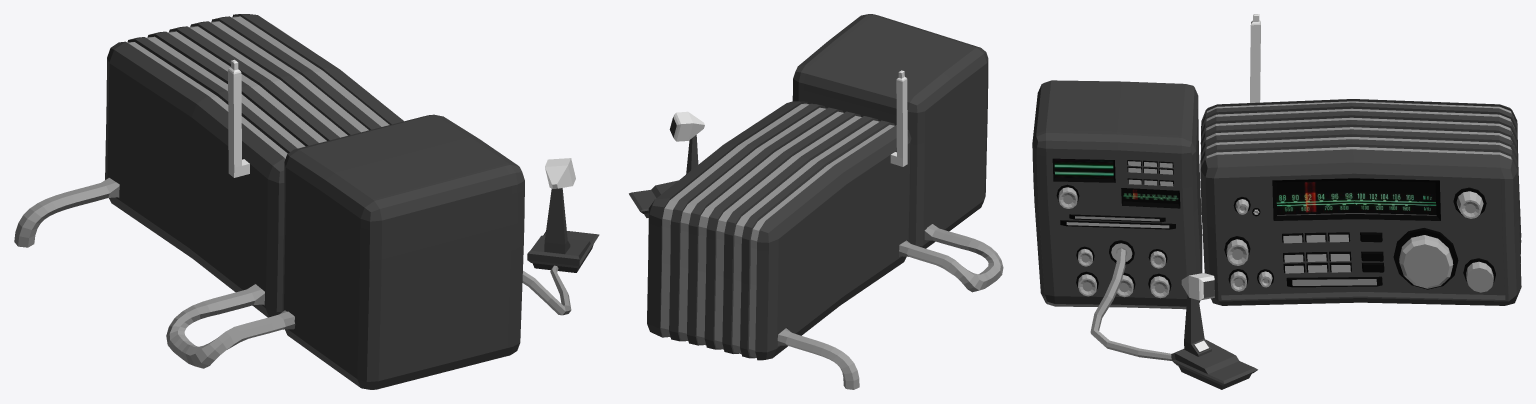
The model's file is Radio.fbx.
3 views of the same model, side by side, from view 1: azimuth 30°, elevation 25°; view 2: azimuth 150°, elevation 25°; view 3: azimuth 270°, elevation 25° (orthographic). The views are drawn at different scales.
Visible parts, largest first — view 1: Radio, Microfono; view 2: Radio, Microfono; view 3: Radio, Microfono, RuedaImportante1.
Boxes of the visible parts, x1,y1,x2,y2 form: Radio: [14, 14, 524, 389]; Microfono: [522, 158, 599, 315]; Radio: [647, 14, 1003, 389]; Microfono: [629, 111, 704, 217]; Radio: [1032, 14, 1521, 309]; Microfono: [1090, 248, 1257, 389]; RuedaImportante1: [1399, 235, 1453, 288].
Size of the model in its own units: 560 by 328 by 619.
Materials: 6 (1 with a texture image).
